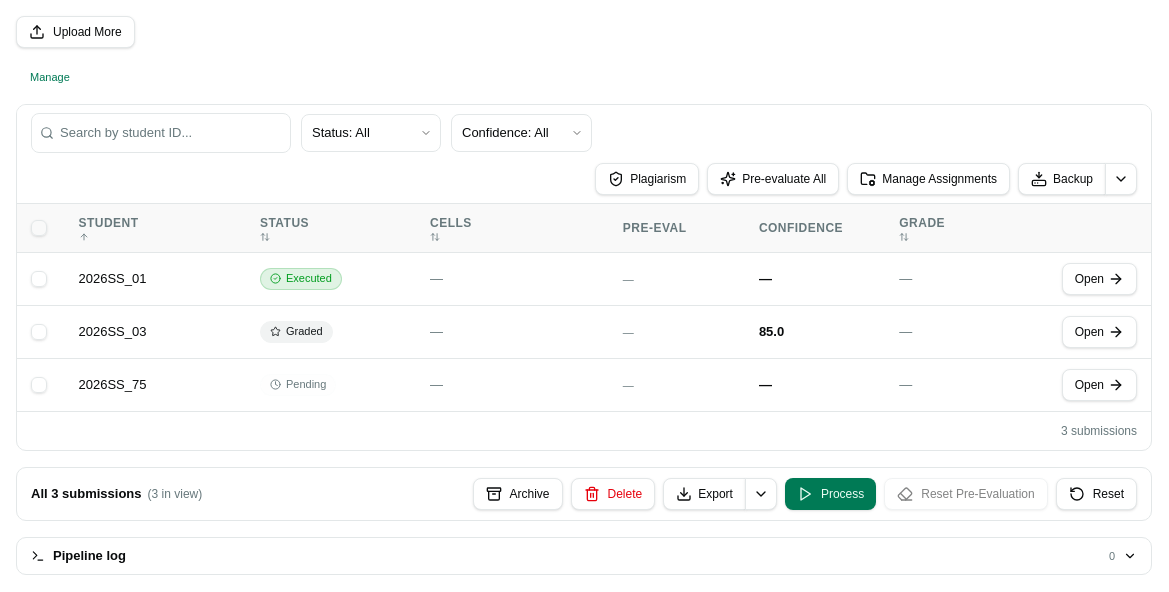
Test: submissions dashboard bulk bar › clears the selection with the X button
The image size is (1169, 592).
Expected: the link "2026SS_01" is shown, [78,271,146,286]
Click the checkbox named "Select 2026SS_01": [39, 279] box [31,271,47,287]
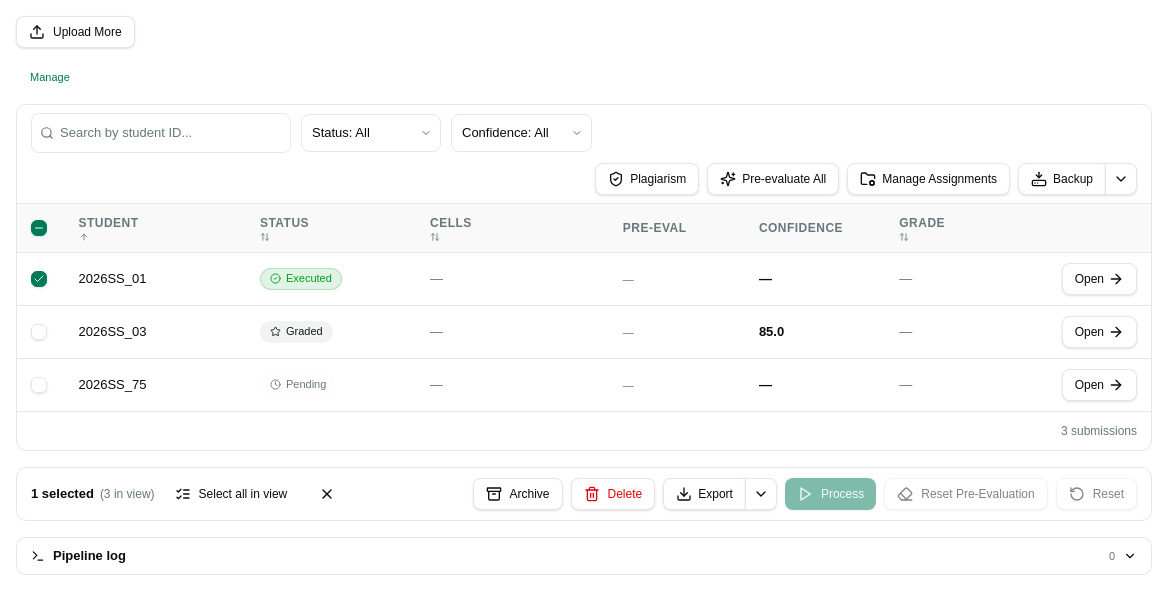
Expected: the text "1 selected (3 in view)" is shown, [31,484,155,504]
Click the button named "Clear selection": [327, 494] box [307,478,347,510]
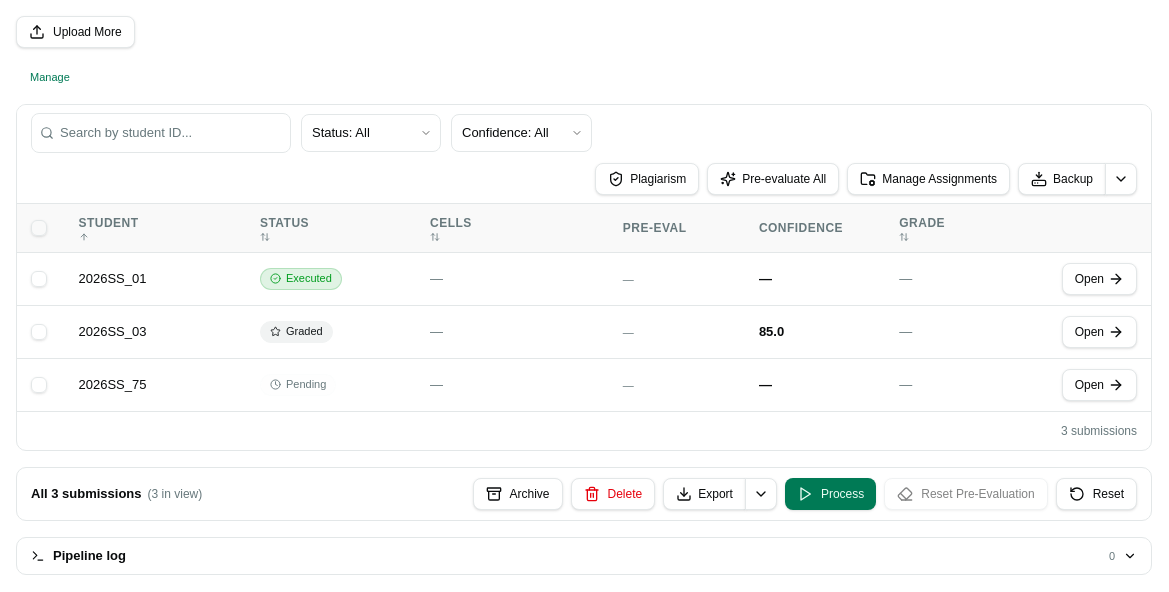
Expected: the text "All 3 submissions (3 in view)" is shown, [31,484,202,504]
